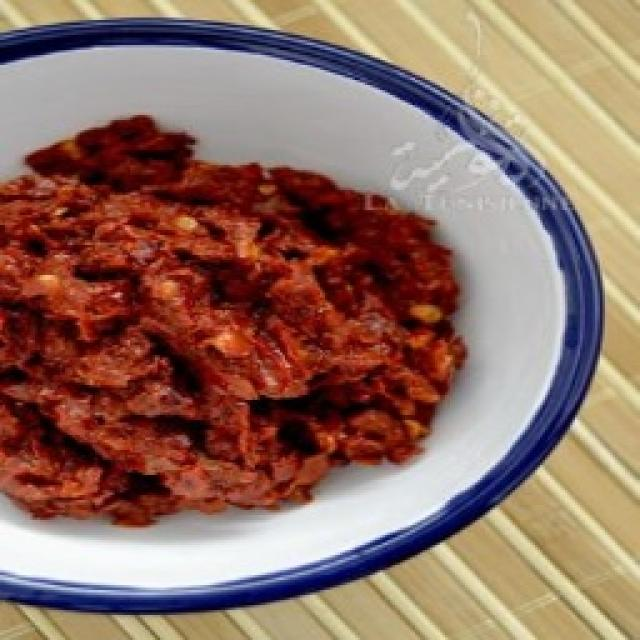Harissa: (0, 115, 468, 530)
